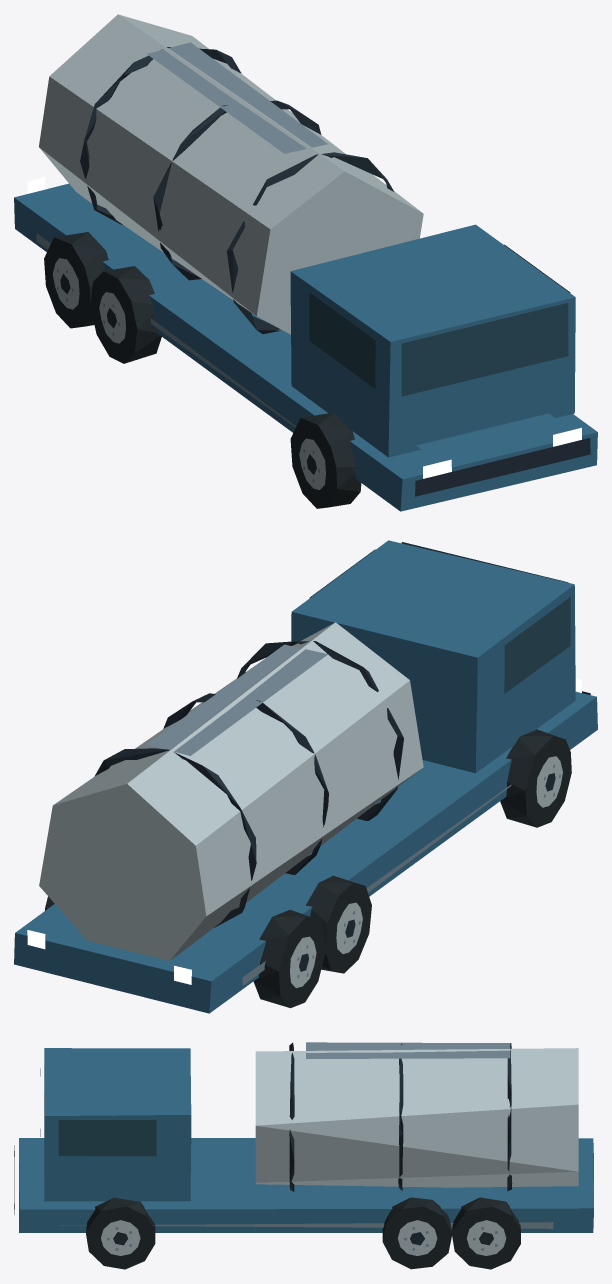
Rendered from road-tanker.lod2.glb.
3 renders of one model, top to bottom at view 1: azimuth 30°, elevation 25°; view 2: azimuth 150°, elevation 25°; view 3: azimuth 270°, elevation 25°, orthographic. The views are drawn at different scales.
Parts seen in each view (by area): view 1: road-tanker__body, road-tanker__wheel_steer_2_l, road-tanker__wheel_steer_0_l, road-tanker__wheel_steer_1_l; view 2: road-tanker__body, road-tanker__wheel_steer_0_l, road-tanker__wheel_steer_1_l, road-tanker__wheel_steer_2_l; view 3: road-tanker__body, road-tanker__wheel_steer_2_r, road-tanker__wheel_steer_0_r, road-tanker__wheel_steer_1_r.
Boxes of the visible parts, box(x1,y1,x2,y2) form: road-tanker__body: box(14, 14, 597, 511); road-tanker__wheel_steer_2_l: box(90, 266, 161, 363); road-tanker__wheel_steer_0_l: box(290, 412, 361, 508); road-tanker__wheel_steer_1_l: box(44, 232, 108, 328); road-tanker__body: box(14, 540, 597, 1013); road-tanker__wheel_steer_0_l: box(500, 729, 571, 827); road-tanker__wheel_steer_1_l: box(253, 910, 325, 1008); road-tanker__wheel_steer_2_l: box(306, 875, 371, 973); road-tanker__body: box(14, 1042, 597, 1232); road-tanker__wheel_steer_2_r: box(382, 1197, 452, 1269); road-tanker__wheel_steer_0_r: box(86, 1197, 155, 1269); road-tanker__wheel_steer_1_r: box(452, 1197, 520, 1269).
Size of the model in its own units: 2.84 by 2.7 by 8.05.
